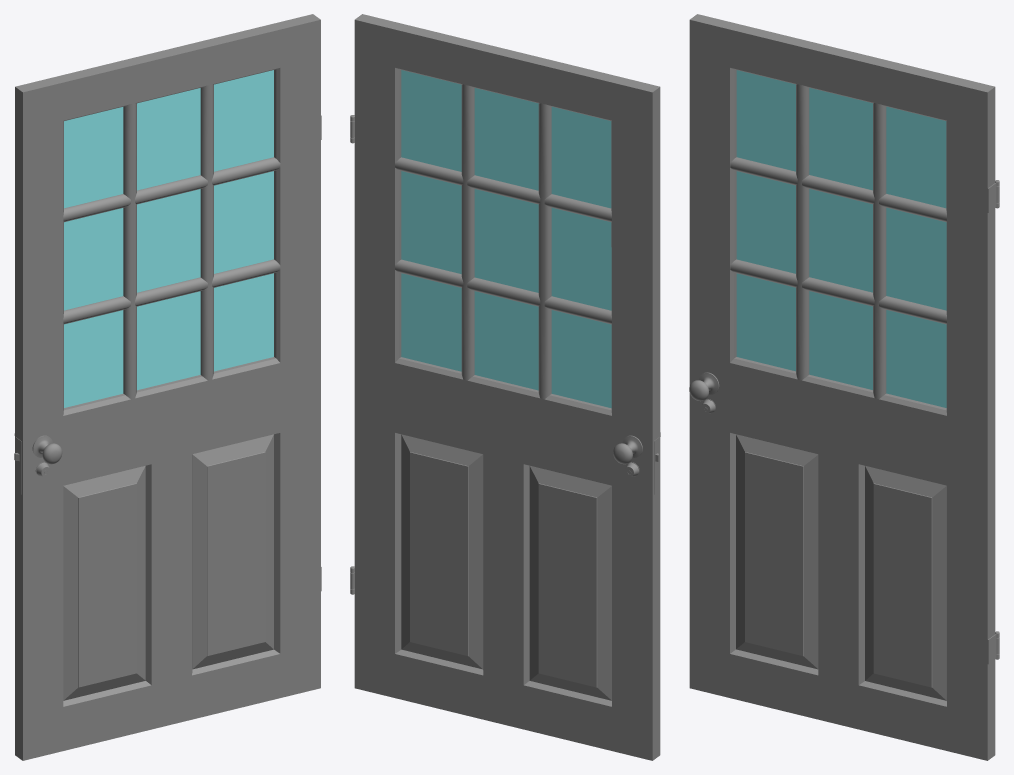
The model's file is Door_mesh_multidirectional_C_L.FBX.
3 renders of one model, left to right at view 1: azimuth 30°, elevation 25°; view 2: azimuth 150°, elevation 25°; view 3: azimuth 330°, elevation 25°, orthographic.
Visible parts, largest first — view 1: Door_mesh_C_L, Windowglass_A; view 2: Door_mesh_C_L, Windowglass_A; view 3: Door_mesh_C_L, Windowglass_A.
Part boxes in pixels (<box>): Door_mesh_C_L: <box>14,14,321,760</box>; Windowglass_A: <box>64,70,273,407</box>; Door_mesh_C_L: <box>350,14,660,760</box>; Windowglass_A: <box>401,70,611,408</box>; Door_mesh_C_L: <box>689,14,999,760</box>; Windowglass_A: <box>736,70,946,407</box>.
Bounding box in the file's own units: 102 × 215 × 19.99.
